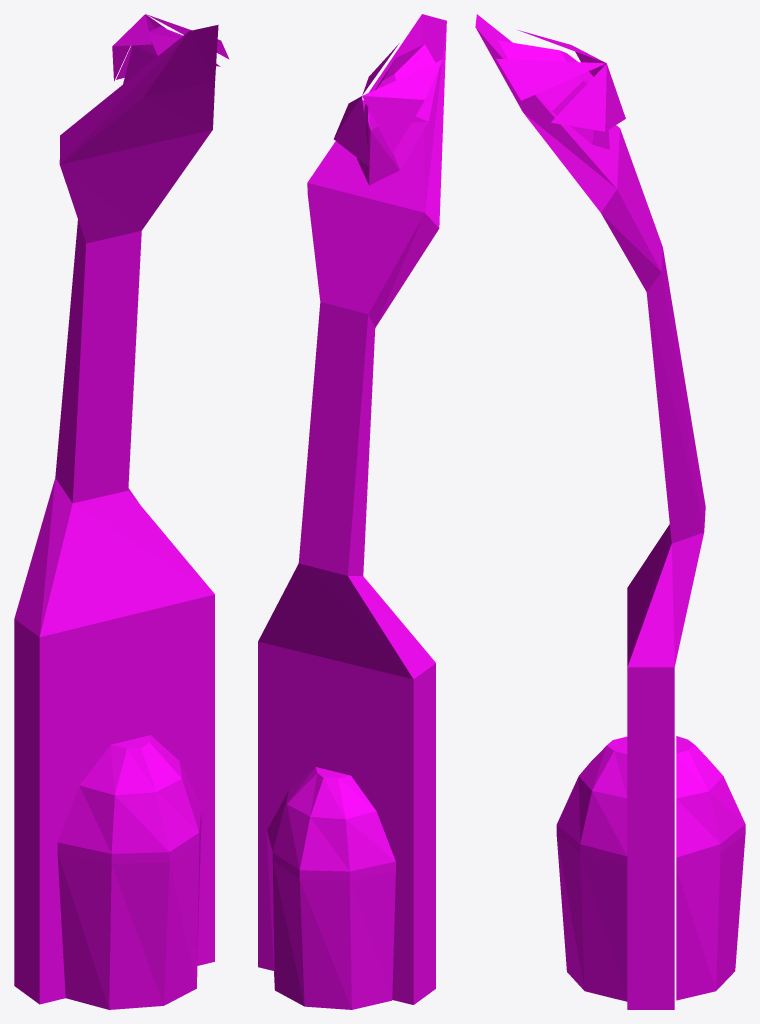
File: magearena tallwall.obj
The picture shows the model from 3 angles, left to right: view 1: azimuth 30°, elevation 25°; view 2: azimuth 150°, elevation 25°; view 3: azimuth 270°, elevation 25°; orthographic projection. The views are drawn at different scales.
Parts seen in each view (by area): view 1: magearena tallwall_back; view 2: magearena tallwall_back; view 3: magearena tallwall_back.
Boxes of the visible parts, left/top/right/bottom form: magearena tallwall_back: left=14, top=14, right=229, bottom=1009; magearena tallwall_back: left=258, top=14, right=446, bottom=1009; magearena tallwall_back: left=475, top=14, right=745, bottom=1009.
Bounding box in the file's own units: 1.28 × 7.08 × 1.83.
